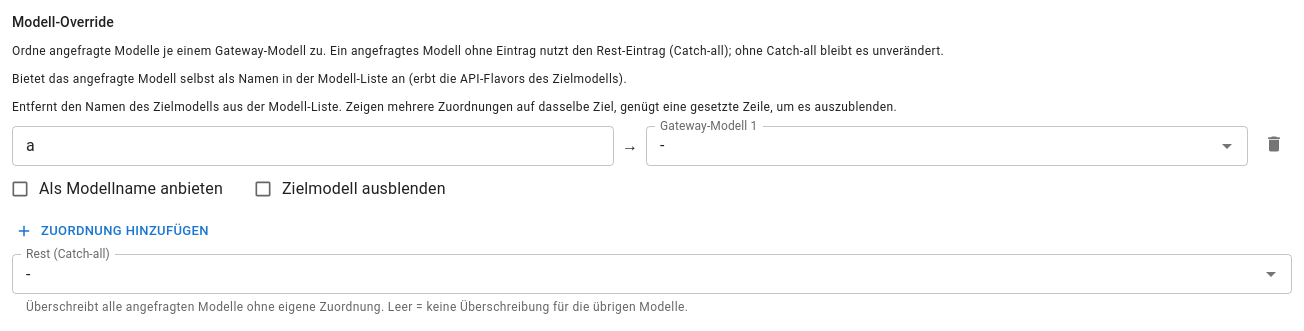
Test: offers a rule target only the names served under an API
Press the mouse on the dropdown labelled "Gateway-Modell 1" at (918, 146), box [652,132,1183,160]
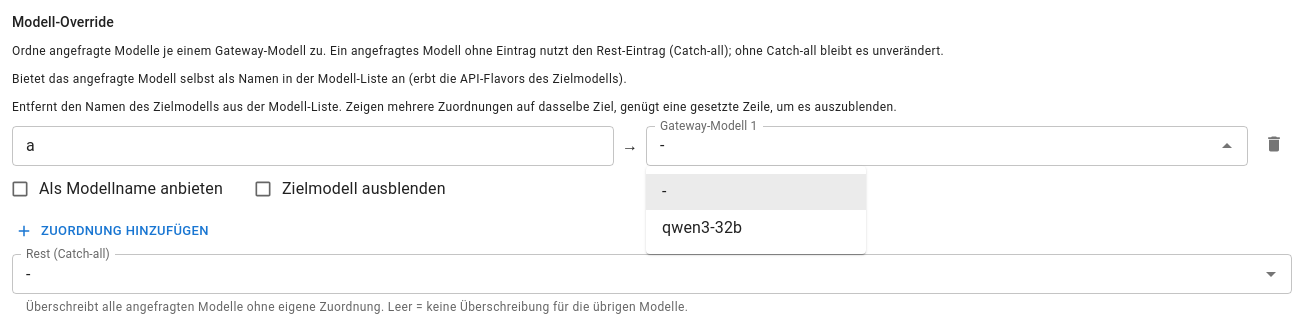
Check: the option "qwen3-32b" is shown, box [662,218,742,237]
